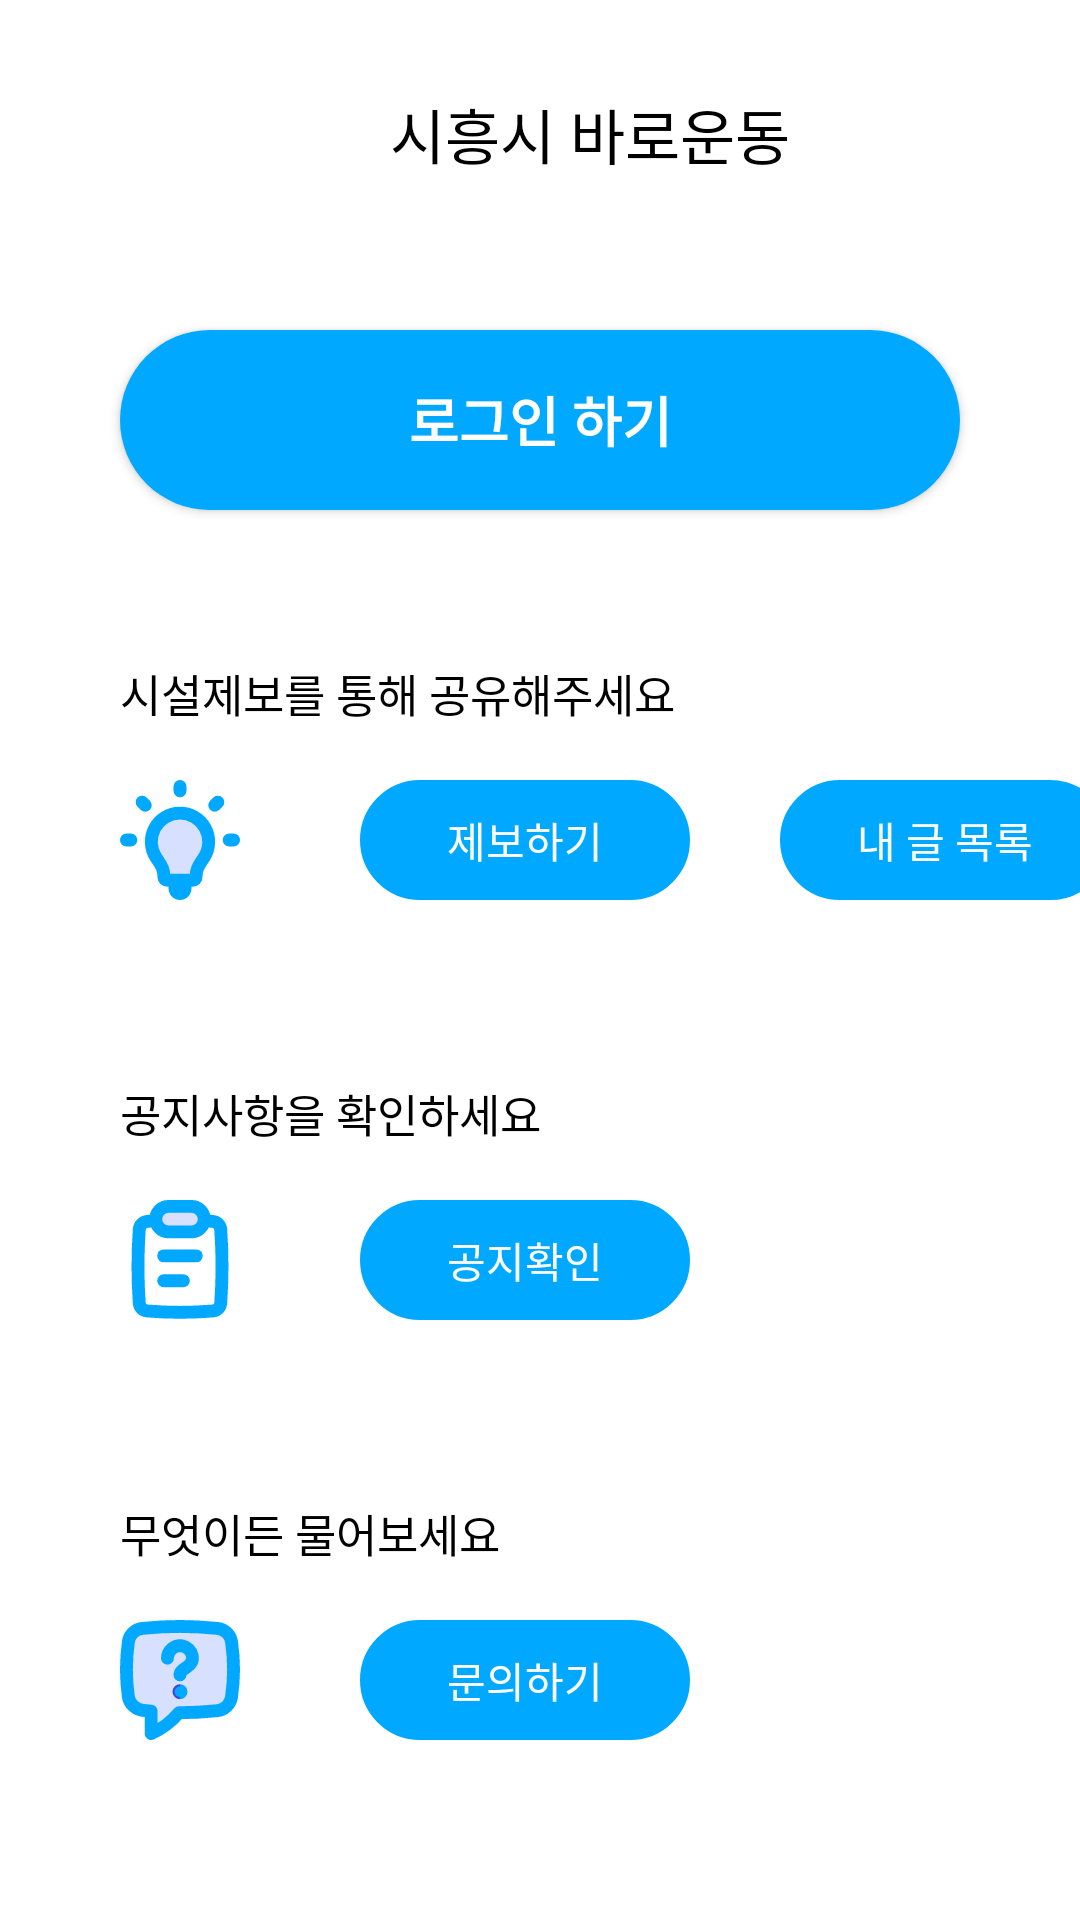

Named icons in this screenshot (1080 × 1920) and their centers, point (x, y):
bulb: point (180, 840)
clipboard text: point (180, 1259)
question bubble: point (180, 1680)
